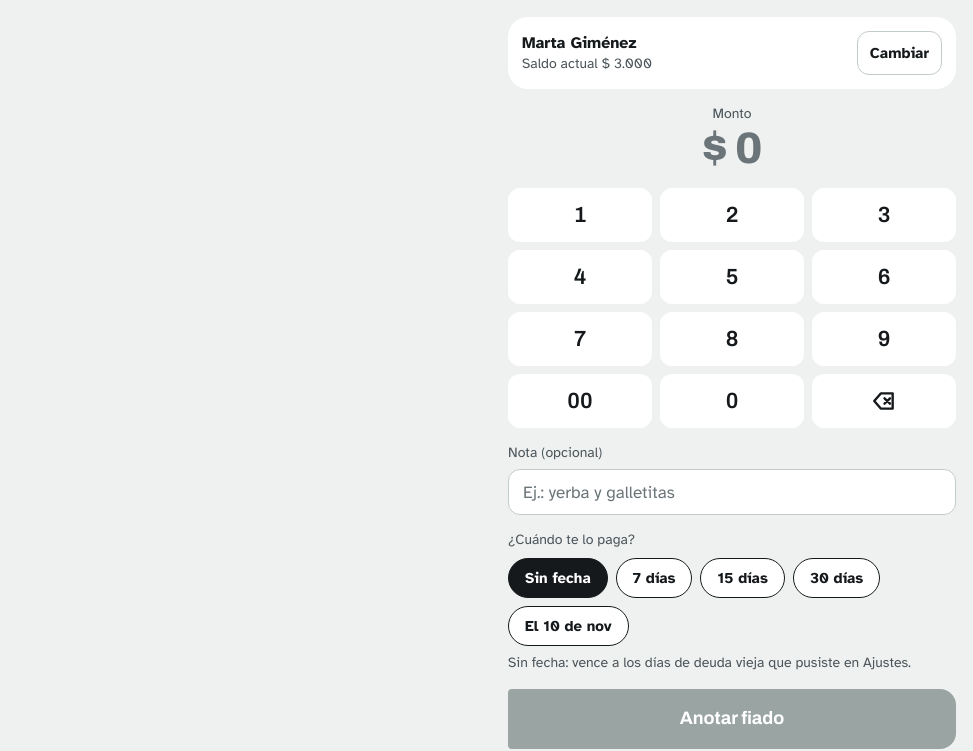
Test: Anotar fiado › muestra el error del backend y deja reintentar
Check: the text "Saldo actual $ 3.000" is shown, box [522,55,652,72]
Click the button "1" at (580,215), box [508,188,652,242]
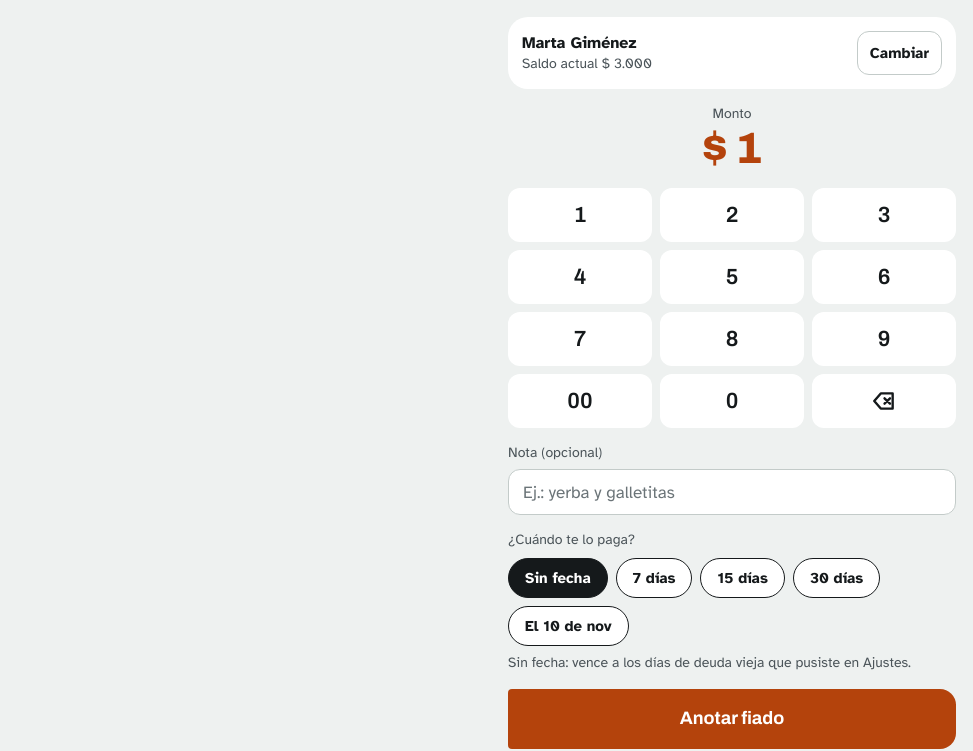
Click the button "Anotar fiado" at (732,719), box [508,689,956,749]
(page scrolled)
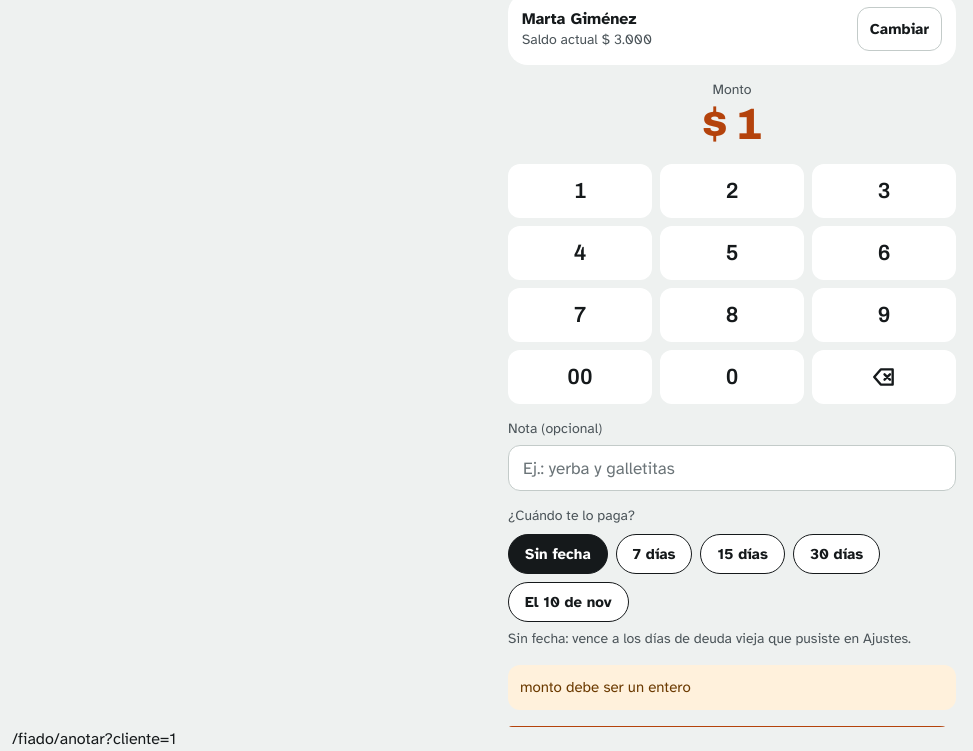
Check: the text with test id "donde" reads "/fiado/anotar?cliente=1", box [12,729,176,749]
Check: the text "monto debe ser un entero" is shown, box [508,665,956,710]
